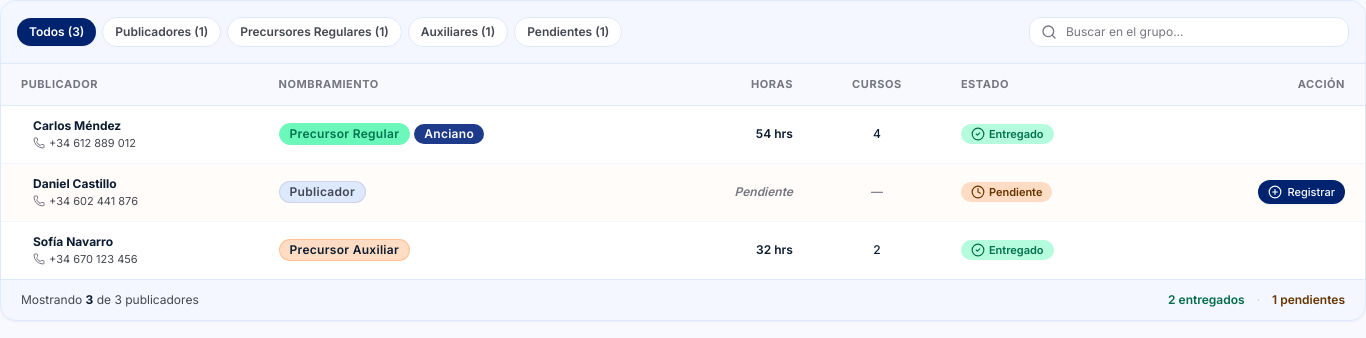
Test case: PublishersTable organism › filtra mediante el buscador de texto
Type "Sofía" into the field with placeholder "Buscar en el grupo..." at (1189, 32), box [1029,17,1349,47]
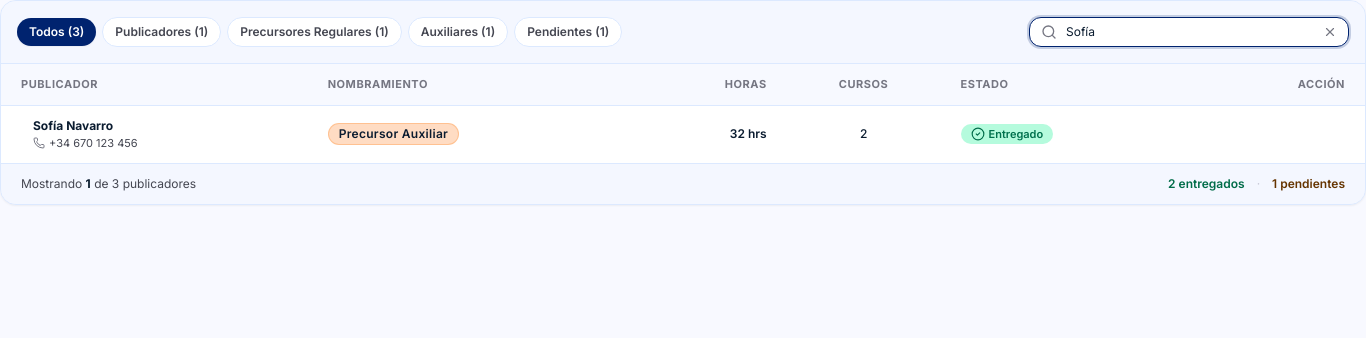
Expected: the text "Sofía Navarro" is shown, [33,118,113,132]
Expected: the text "Carlos Méndez" is gone
